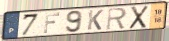7: (21, 13, 41, 37)
9: (65, 9, 84, 33)
F: (43, 12, 62, 34)
K: (86, 9, 105, 31)
R: (106, 7, 129, 31)
X: (128, 4, 150, 30)
